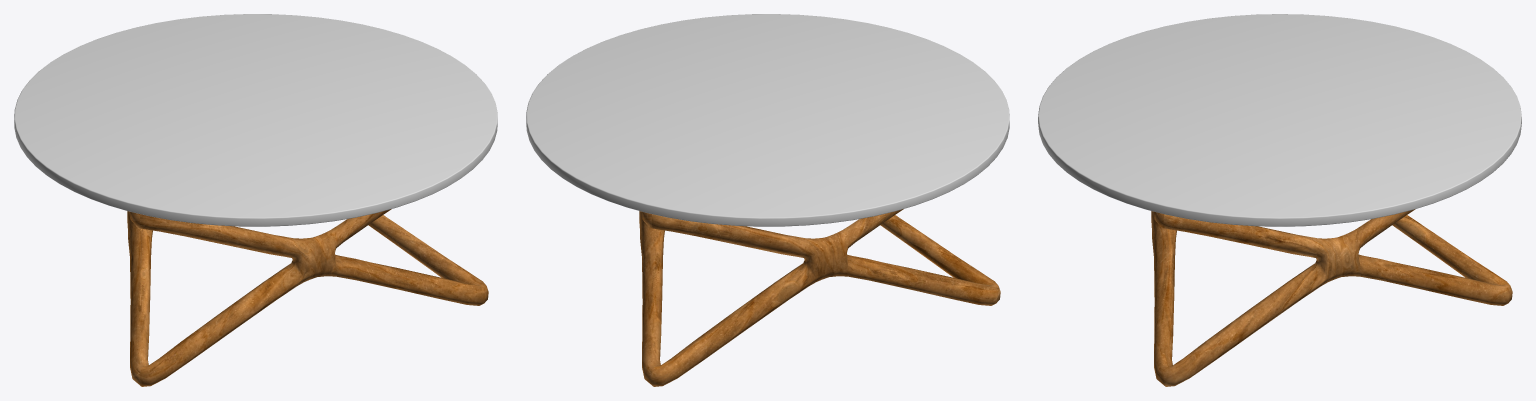
The model's file is coffeetable.glb.
The picture shows the model from 3 angles, left to right: view 1: azimuth 30°, elevation 25°; view 2: azimuth 150°, elevation 25°; view 3: azimuth 270°, elevation 25°; orthographic projection.
Visible parts, largest first — view 1: Object_2, Object_4; view 2: Object_2, Object_4; view 3: Object_2, Object_4.
Part boxes in pixels (x1,y1,x2,y2): Object_2: (14,14,497,226); Object_4: (127,209,488,386); Object_2: (526,14,1009,226); Object_4: (639,209,1000,386); Object_2: (1038,14,1521,226); Object_4: (1151,209,1512,386).
Size of the model in its own units: 2 by 0.8557 by 2.
Materials: 3 (1 with a texture image).
